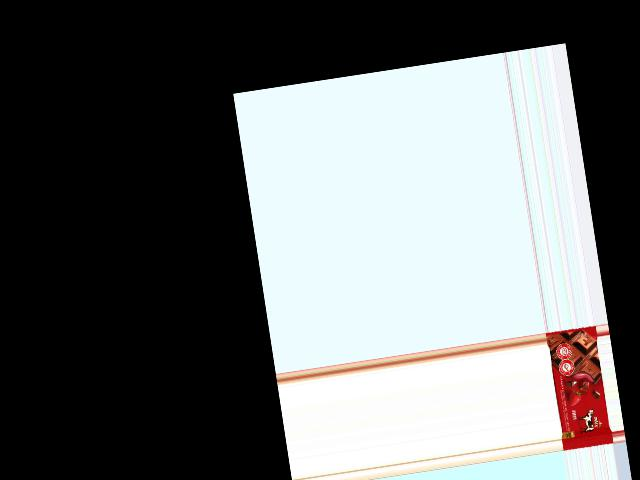chocolate: (545, 325, 613, 451)
